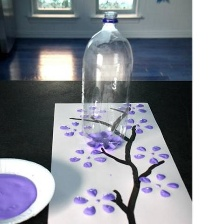bottle: (79, 7, 135, 148)
